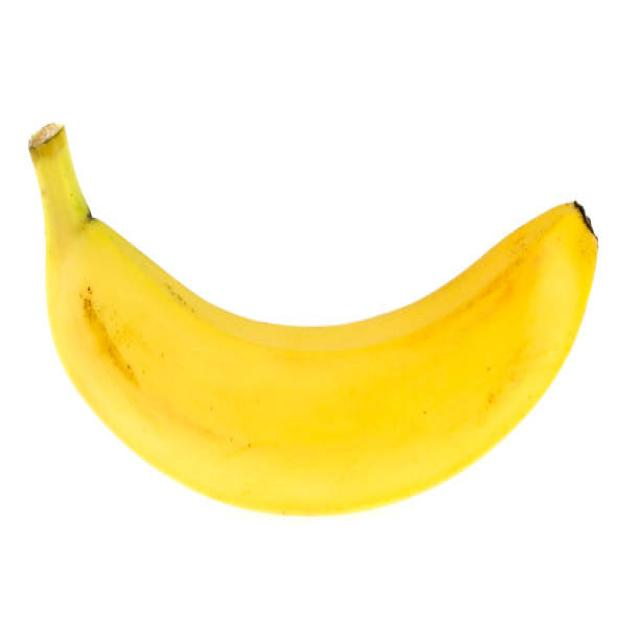banana: (28, 119, 598, 515)
